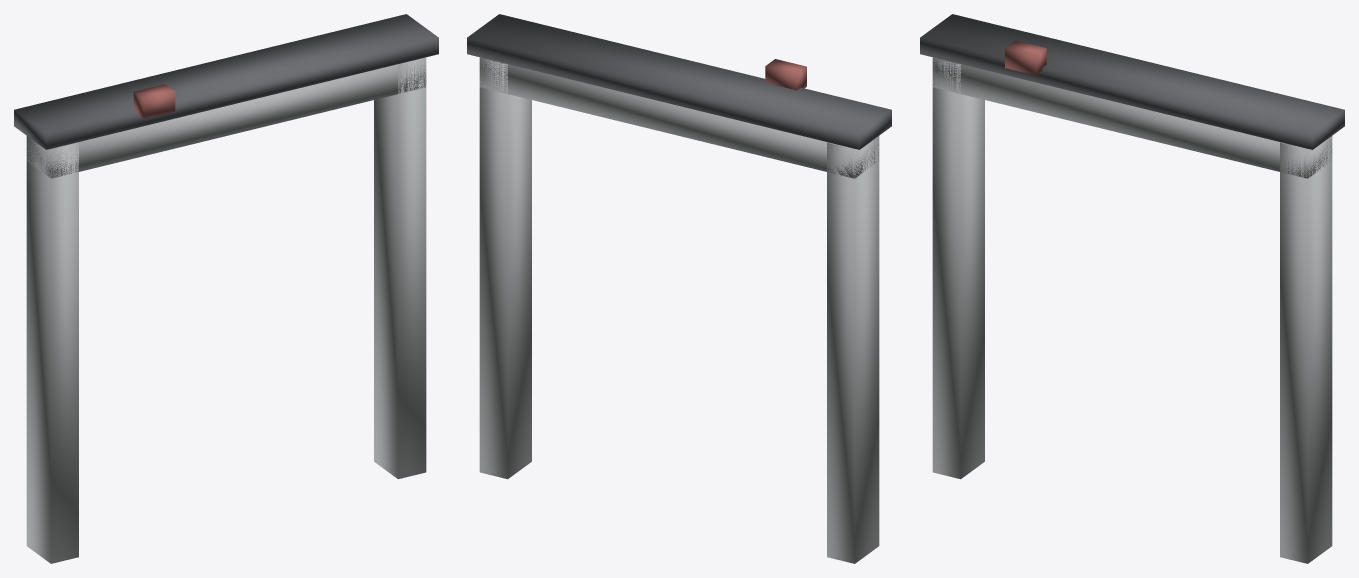
The model's file is doorway_fire_rated_w182_h210_d24.glb.
The picture shows the model from 3 angles, left to right: view 1: azimuth 30°, elevation 25°; view 2: azimuth 150°, elevation 25°; view 3: azimuth 330°, elevation 25°; orthographic projection.
Parts seen in each view (by area): view 1: world; view 2: world; view 3: world.
Boxes of the visible parts, x1,y1,x2,y2 form: world: (14, 14, 438, 563); world: (467, 14, 891, 563); world: (920, 14, 1344, 563).
Size of the model in its own units: 2.24 by 2.46 by 0.38.
